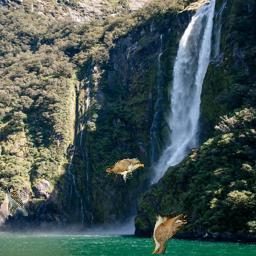Cuckoo: (151, 214, 187, 254), (105, 158, 145, 185)
Sparrow: (7, 184, 28, 216)
